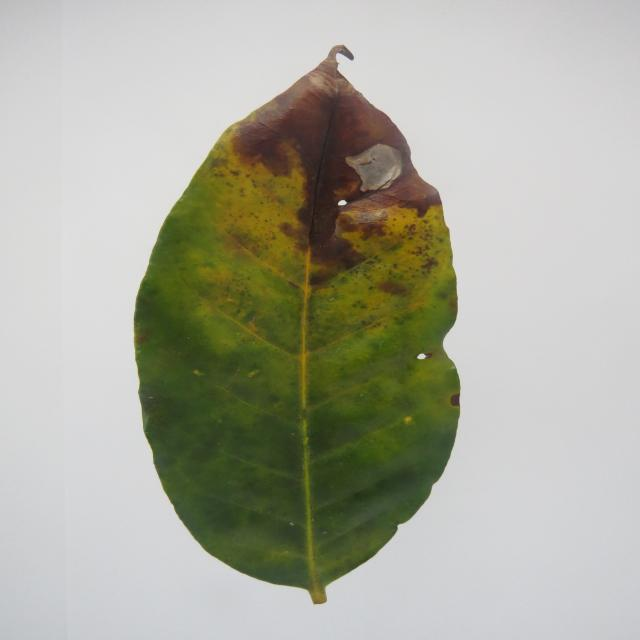DeficienciaNutricional-Potasio: (135, 46, 458, 604)
